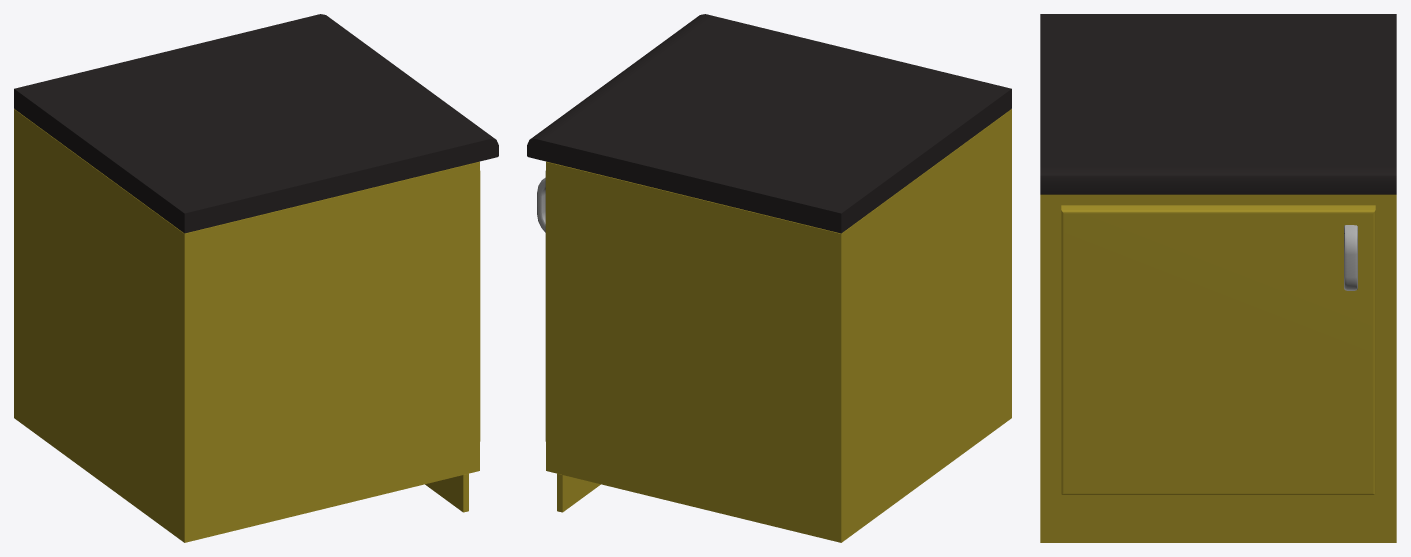
The model's file is Mirrored Base Unit.fbx.
3 renders of one model, left to right at view 1: azimuth 30°, elevation 25°; view 2: azimuth 150°, elevation 25°; view 3: azimuth 270°, elevation 25°, orthographic. The views are drawn at different scales.
Visible parts, largest first — view 1: Mirrored_Unit; view 2: Mirrored_Unit; view 3: Mirrored_Unit.
Boxes of the visible parts, left/top/right/bottom form: Mirrored_Unit: left=14, top=14, right=498, bottom=542; Mirrored_Unit: left=527, top=14, right=1011, bottom=542; Mirrored_Unit: left=1040, top=14, right=1396, bottom=542.
Bounding box in the file's own units: 110 × 119 × 100.
